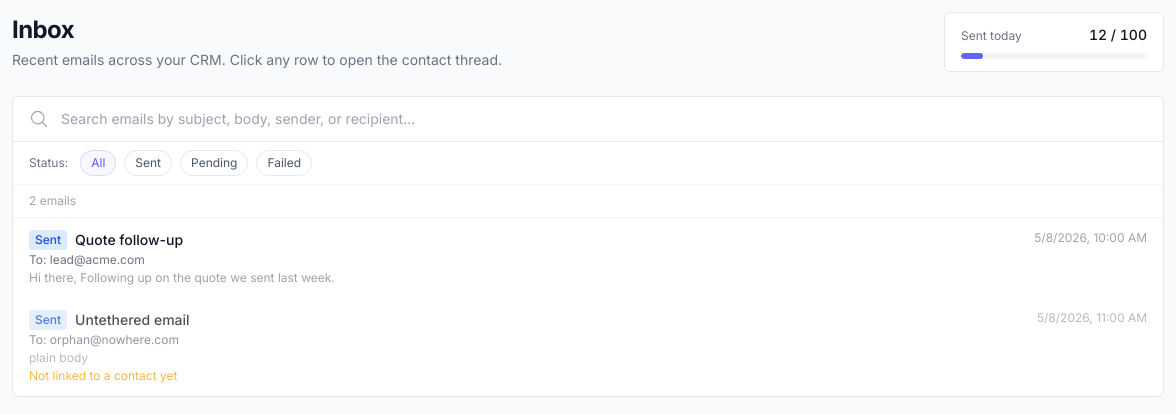
Test case: InboxPage › switches to search results when a query is typed
Check: the text "Quote follow-up" is shown, box [75,230,183,250]
Type "follow-up" into the search field with placeholder "Search emails by subject, body, sender, or recipient..." at coordinates (604, 119), box [61,109,1147,129]
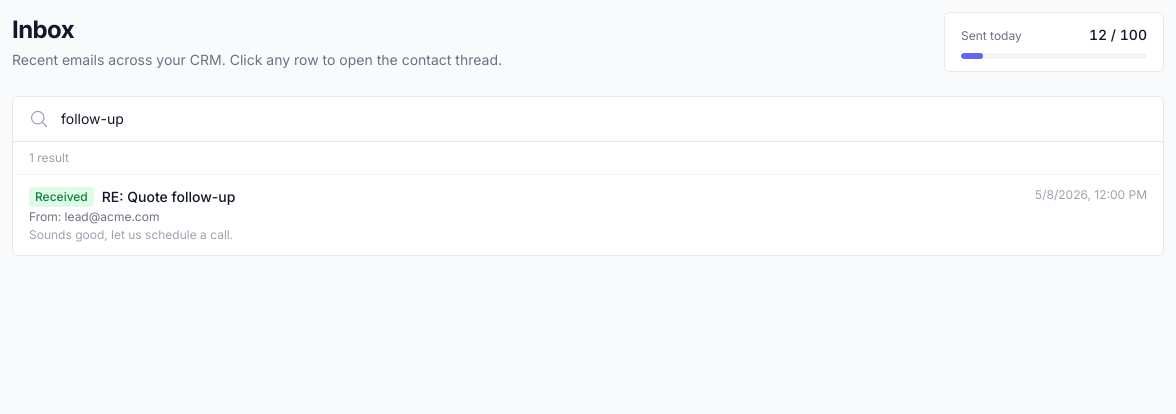
Check: the text "RE: Quote follow-up" is shown, box [102,187,235,207]
Check: the text "Sounds good, let us schedule a call." is shown, box [29,227,233,242]
Check: the button "Failed" is gone
